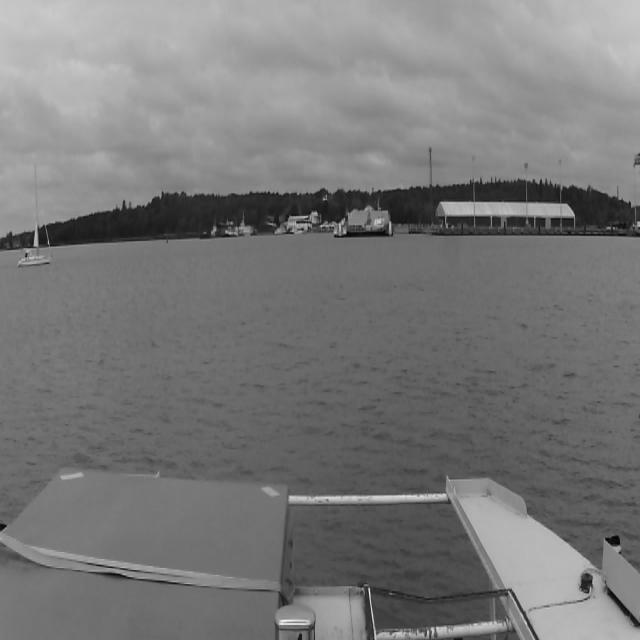buoy: (166, 233, 168, 243)
ship: (18, 164, 52, 268)
